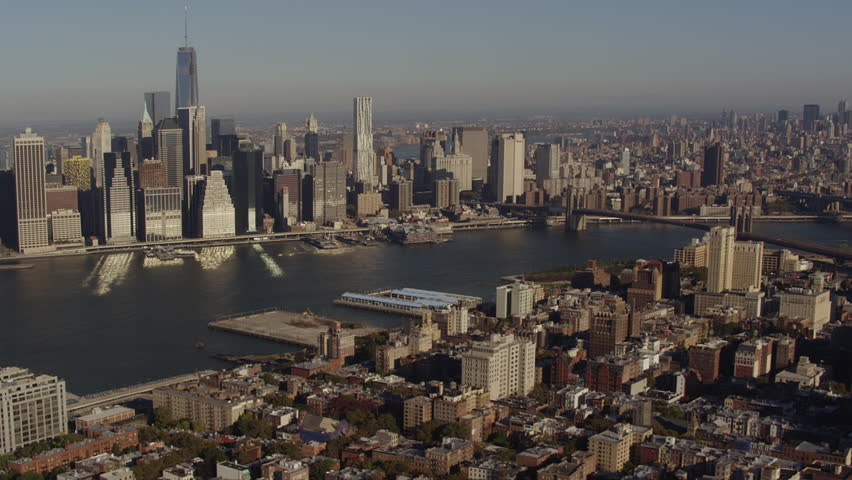wtc: (174, 4, 200, 117)
